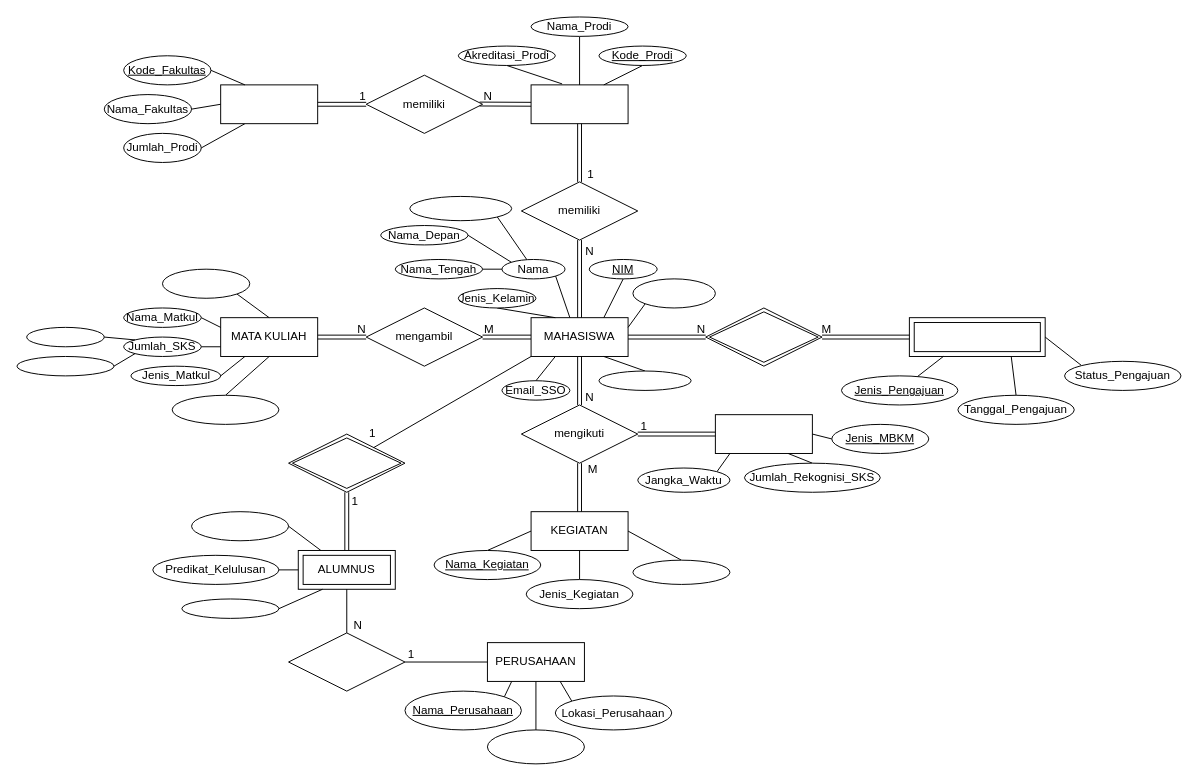
Image size: 1198x782. Some labels were removed from this diagram. The box of each missing label's shape, as (x1, y1, x2, y2) in pixels:
bekerja: (288, 632, 405, 691)
FAKULTAS: (220, 84, 318, 124)
IPK: (181, 598, 279, 618)
JENIS PENGAJUAN: (908, 317, 1045, 356)
Jenis_Perusahaan: (486, 729, 584, 764)
Kode_Matkul: (162, 268, 250, 298)
MBKM: (714, 414, 812, 453)
mengajukan: (705, 307, 822, 366)
menjadi: (288, 433, 405, 492)
Nama_Belakang: (409, 195, 512, 221)
Nama_Pengampu: (171, 394, 279, 424)
Nomor_Telepon: (598, 370, 691, 390)
Periode: (632, 559, 730, 584)
PRODI: (530, 84, 628, 124)
SKS_Praktikum: (16, 356, 114, 376)
SKS_Teori: (26, 326, 104, 347)
Tahun_Kelulusan: (191, 511, 289, 541)
Tanggal_Lahir: (632, 278, 715, 308)
